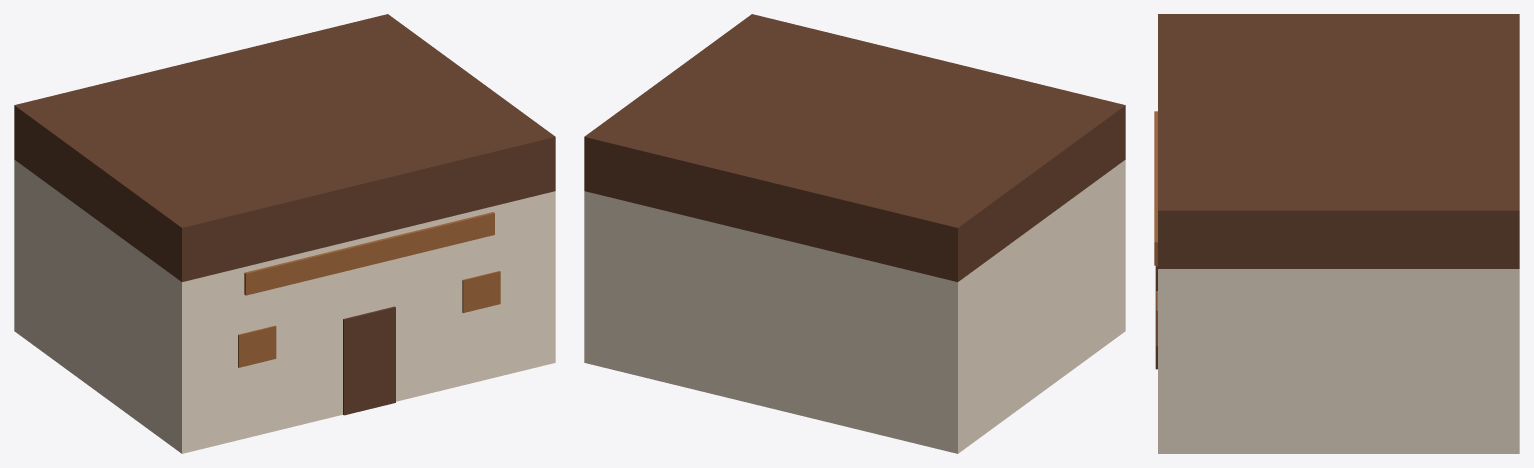
The model's file is gedung_kafe.fbx.
The picture shows the model from 3 angles, left to right: view 1: azimuth 30°, elevation 25°; view 2: azimuth 150°, elevation 25°; view 3: azimuth 270°, elevation 25°; orthographic projection. The views are drawn at different scales.
Visible parts, largest first — view 1: gedung_kafe; view 2: gedung_kafe; view 3: gedung_kafe.
Part boxes in pixels (bbox=[...]): gedung_kafe: bbox=[14, 14, 555, 453]; gedung_kafe: bbox=[584, 14, 1125, 453]; gedung_kafe: bbox=[1154, 14, 1519, 453].
Bounding box in the file's own units: 900 × 520 × 707.
1 material, 1 textured.
